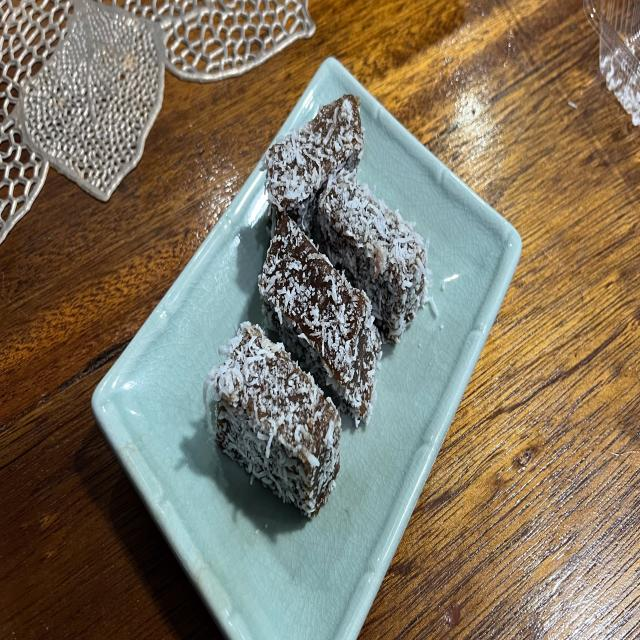kaswi: (204, 322, 341, 518), (259, 213, 381, 424), (312, 171, 431, 342), (264, 96, 364, 233)
